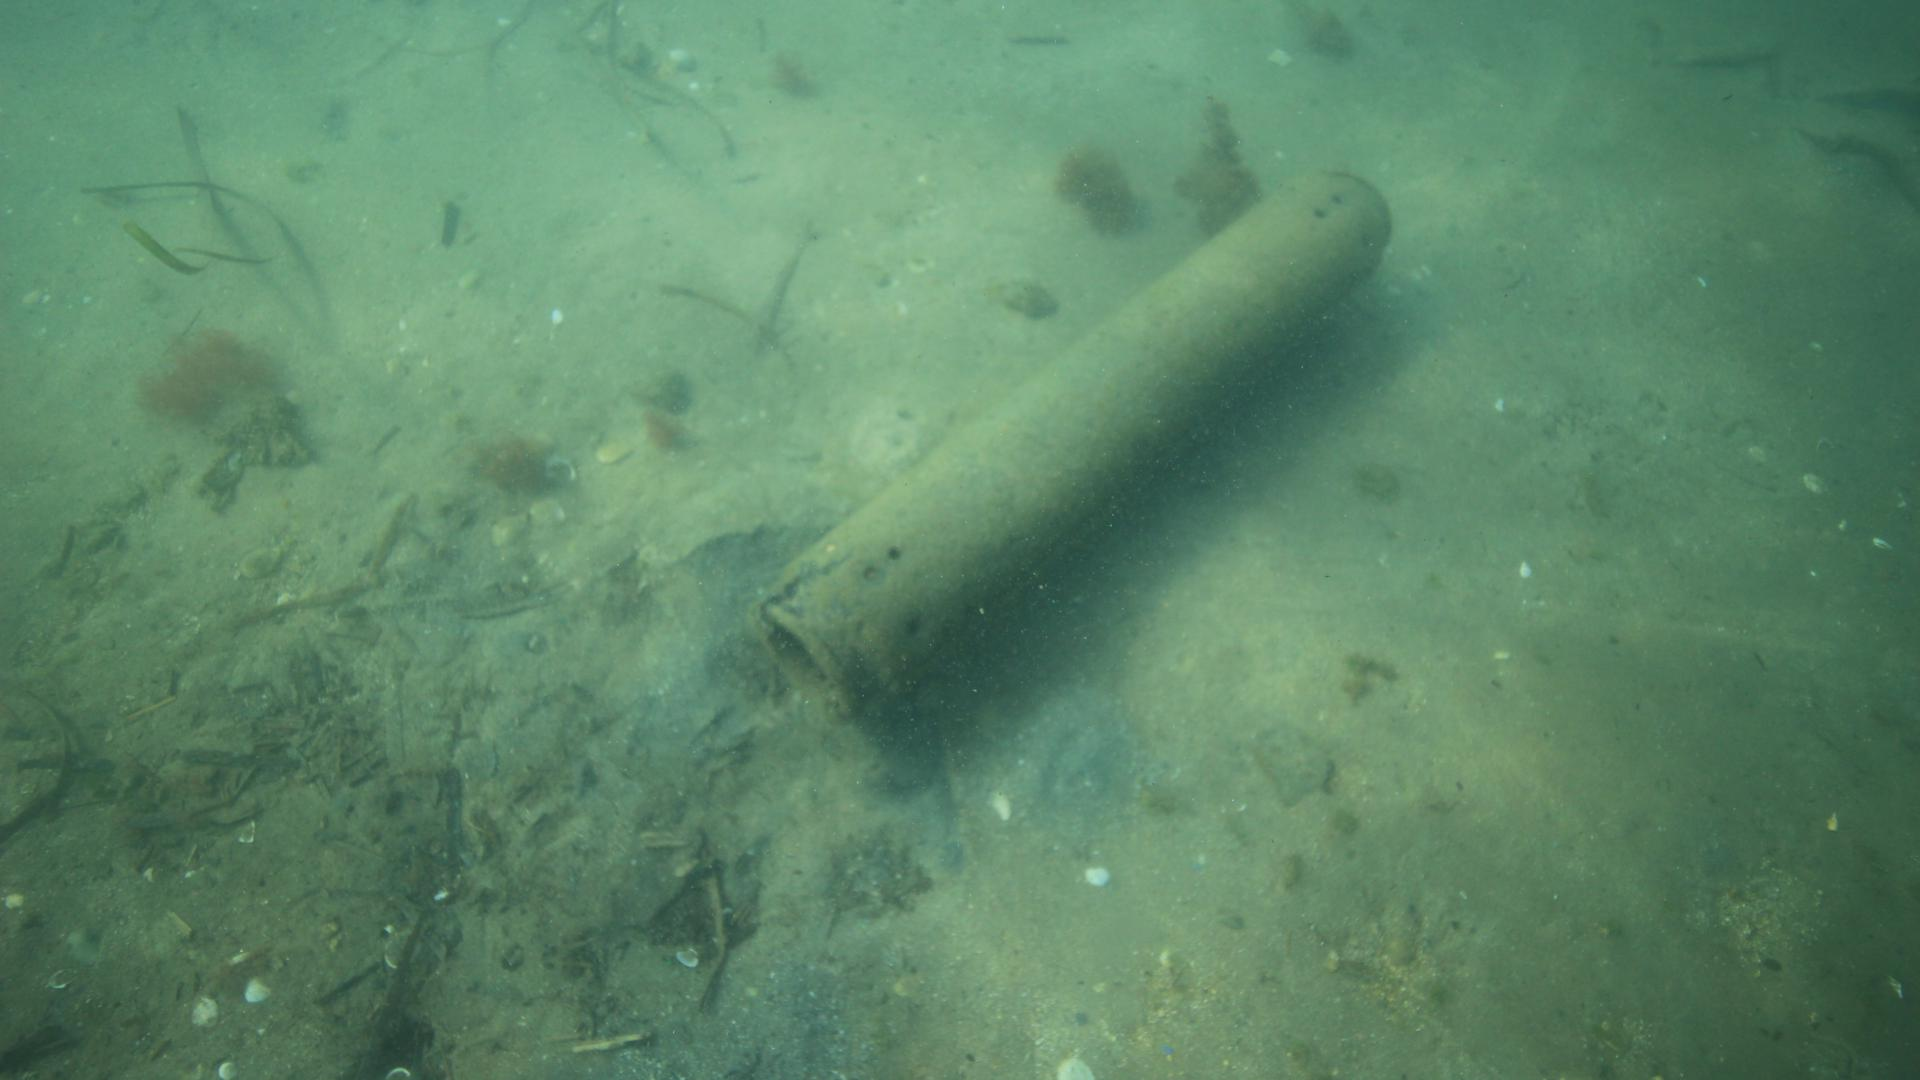eel fish trap: (746, 164, 1396, 728)
